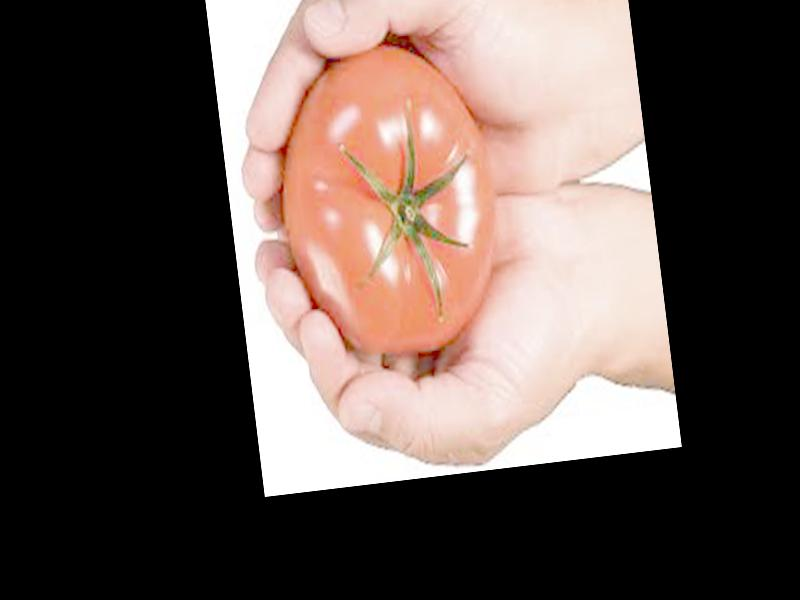Tomato: (268, 34, 509, 367)
